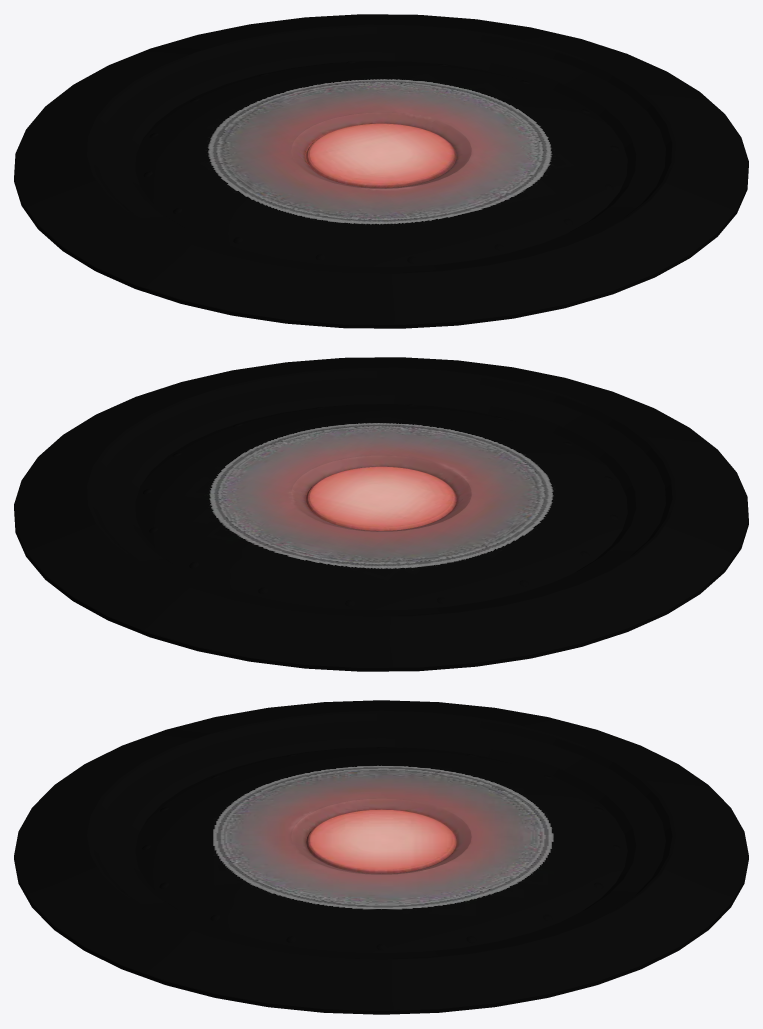
3 renders of one model, top to bottom at view 1: azimuth 30°, elevation 25°; view 2: azimuth 150°, elevation 25°; view 3: azimuth 270°, elevation 25°, orthographic.
Parts seen in each view (by area): view 1: body0_model0_lod0_mesh0; view 2: body0_model0_lod0_mesh0; view 3: body0_model0_lod0_mesh0.
Boxes of the visible parts, x1,y1,x2,y2 form: body0_model0_lod0_mesh0: (14, 14, 748, 328); body0_model0_lod0_mesh0: (14, 357, 748, 671); body0_model0_lod0_mesh0: (14, 700, 748, 1014).
Size of the model in its own units: 203 by 7.38 by 203.
Materials: 1 (1 with a texture image).
